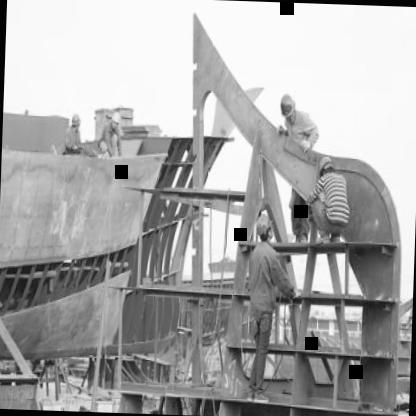helmet: (254, 216, 277, 244), (278, 94, 298, 124), (316, 155, 338, 182), (108, 110, 122, 131), (70, 112, 82, 136)
